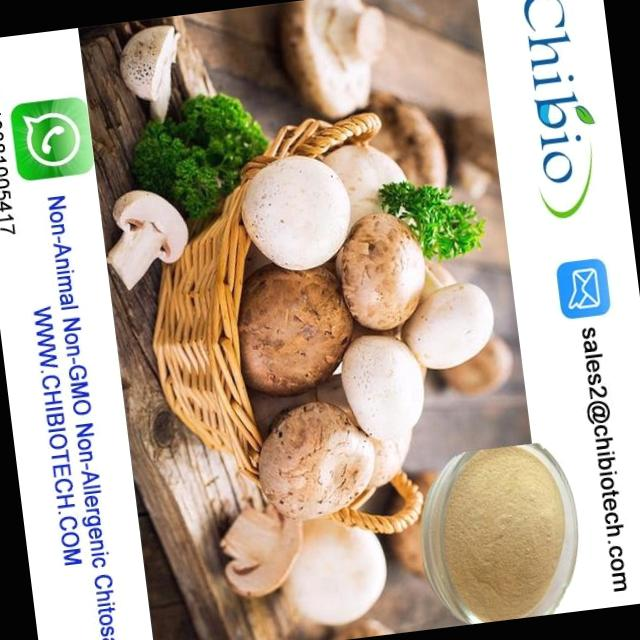Agaricus bisporus: (216, 142, 360, 281), (248, 392, 374, 534), (333, 204, 433, 338), (244, 258, 346, 388), (407, 254, 502, 376), (343, 324, 438, 440), (96, 187, 192, 296)
